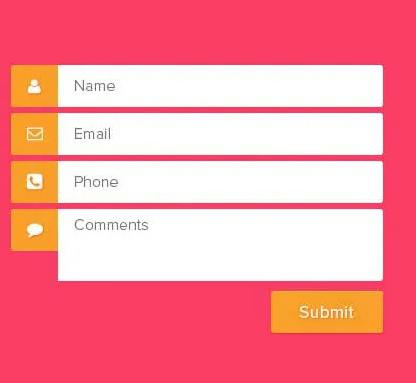button: (269, 290, 385, 335)
field: (55, 209, 384, 282), (55, 64, 386, 108), (53, 112, 384, 156), (55, 160, 384, 204)
